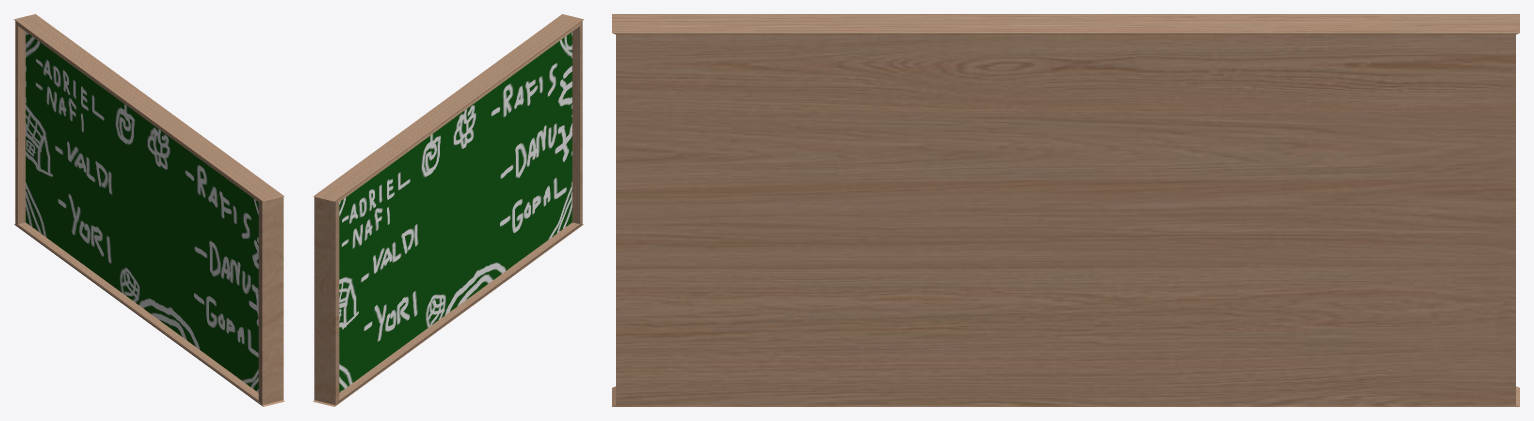
The model's file is PAPAN.glb.
3 renders of one model, left to right at view 1: azimuth 30°, elevation 25°; view 2: azimuth 150°, elevation 25°; view 3: azimuth 270°, elevation 25°, orthographic. The views are drawn at different scales.
Visible parts, largest first — view 1: papan.001, papan; view 2: papan.001, papan; view 3: papan.
Boxes of the visible parts, x1,y1,x2,y2 form: papan.001: [25, 32, 258, 392]; papan: [14, 14, 284, 406]; papan.001: [339, 32, 572, 392]; papan: [313, 14, 583, 406]; papan: [612, 14, 1519, 406].
Bounding box in the file's own units: 3.21 × 28.61 × 62.98.
2 materials, 2 textured.
